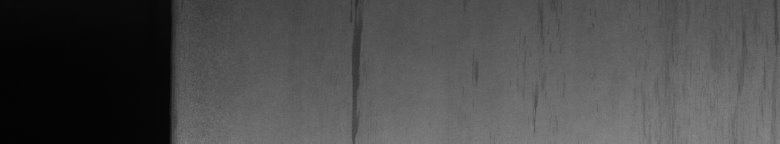hd: (347, 4, 367, 136)
